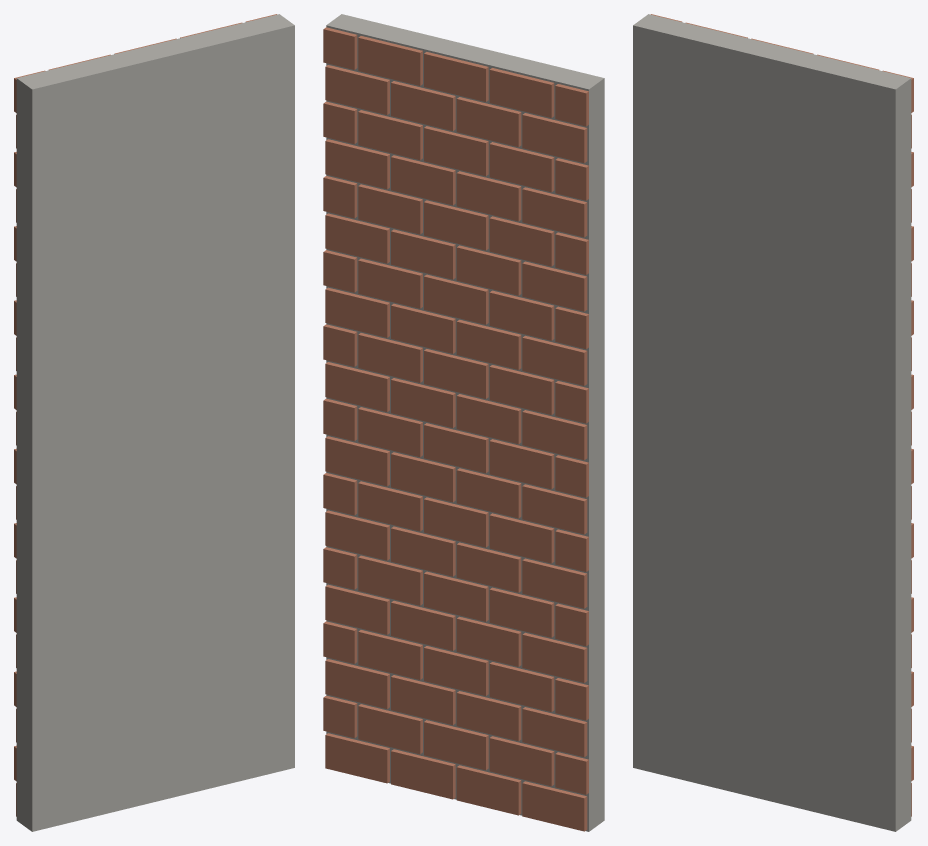
The model's file is SM_LPI_Struct_BrickWall_01.fbx.
The picture shows the model from 3 angles, left to right: view 1: azimuth 30°, elevation 25°; view 2: azimuth 150°, elevation 25°; view 3: azimuth 330°, elevation 25°; orthographic projection.
Visible parts, largest first — view 1: SM_LPI_Struct_BrickWall_01; view 2: SM_LPI_Struct_BrickWall_01; view 3: SM_LPI_Struct_BrickWall_01.
Boxes of the visible parts, bbox=[...] form: SM_LPI_Struct_BrickWall_01: bbox=[14, 14, 294, 831]; SM_LPI_Struct_BrickWall_01: bbox=[323, 14, 604, 831]; SM_LPI_Struct_BrickWall_01: bbox=[633, 14, 913, 831].
Size of the model in its own units: 1 by 2.7 by 0.12.
